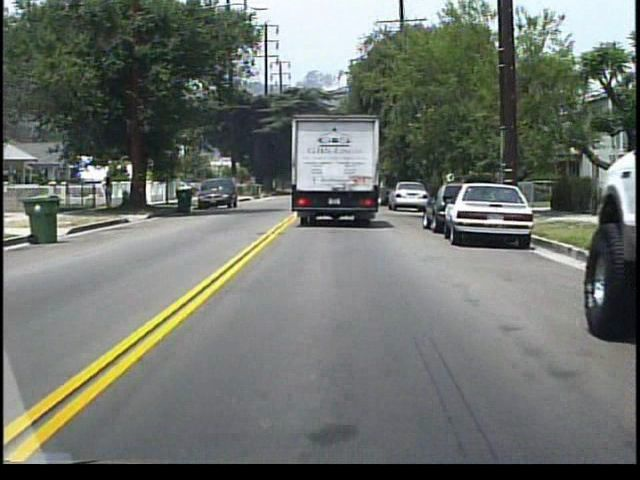person: (105, 177, 117, 210)
